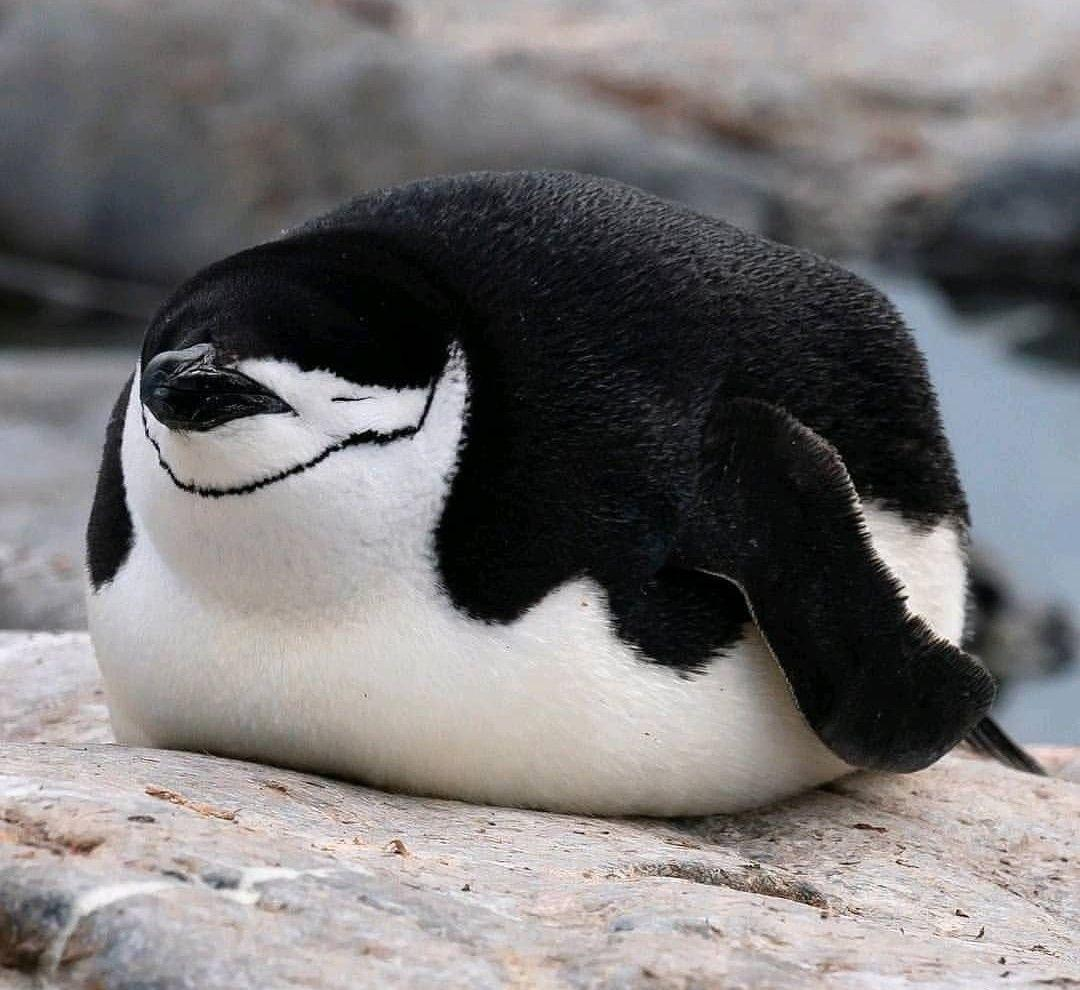Penguin: (89, 173, 1048, 815)
